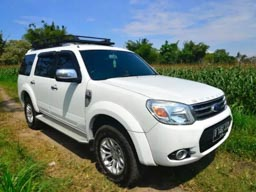plat: (213, 122, 229, 140)
